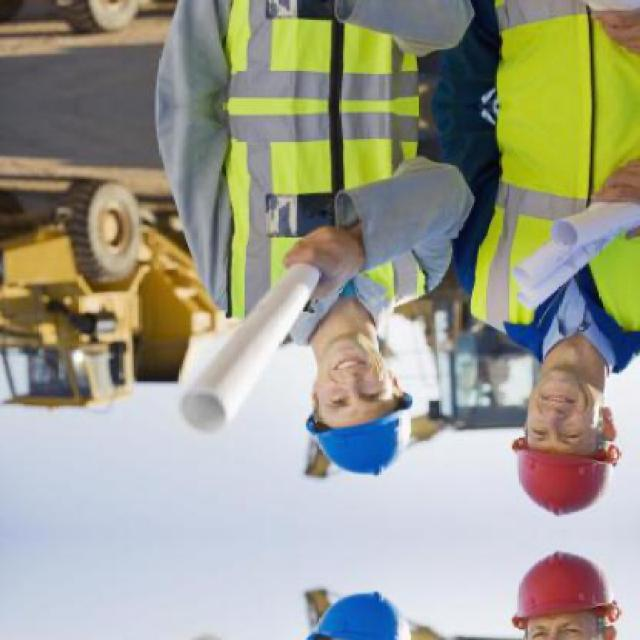con casco: (221, 236, 426, 476), (488, 314, 632, 506)
